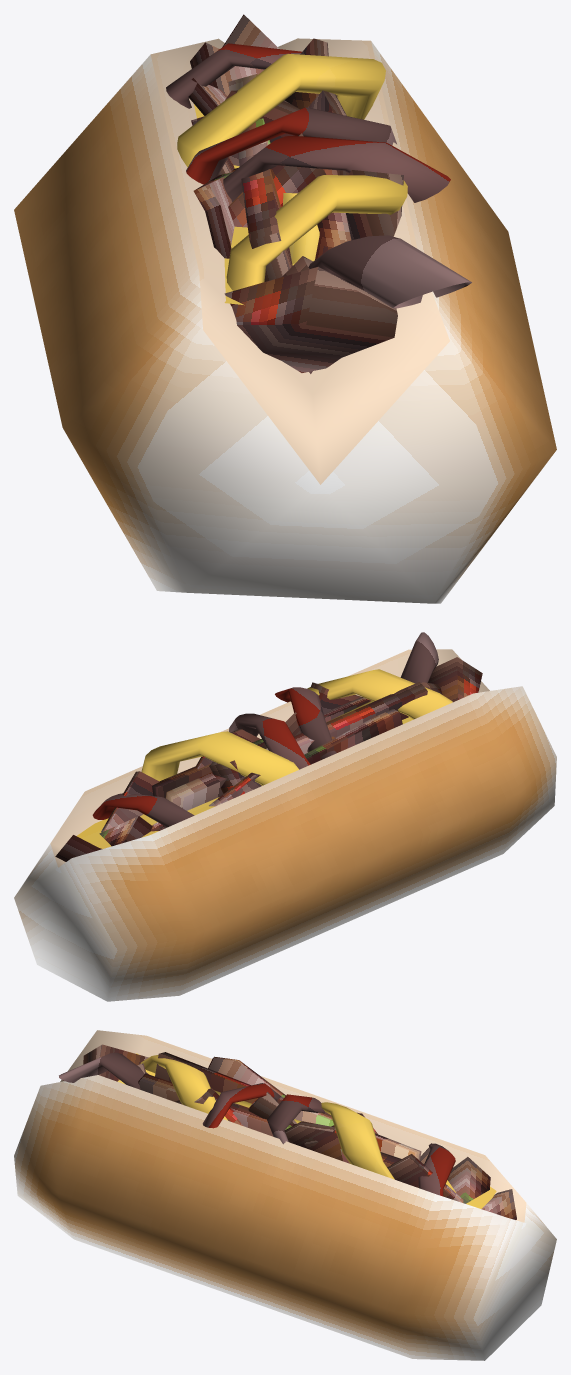
The model's file is H_HotdogEvolved.fbx.
3 renders of one model, top to bottom at view 1: azimuth 30°, elevation 25°; view 2: azimuth 150°, elevation 25°; view 3: azimuth 270°, elevation 25°, orthographic. The views are drawn at different scales.
Visible parts, largest first — view 1: H_HotDogEvolved; view 2: H_HotDogEvolved; view 3: H_HotDogEvolved.
Boxes of the visible parts, box(x1,y1,x2,y2) form: H_HotDogEvolved: box(14, 14, 556, 603); H_HotDogEvolved: box(14, 632, 556, 1001); H_HotDogEvolved: box(14, 1030, 556, 1360).
Bounding box in the file's own units: 24.5 × 15.71 × 34.07.
